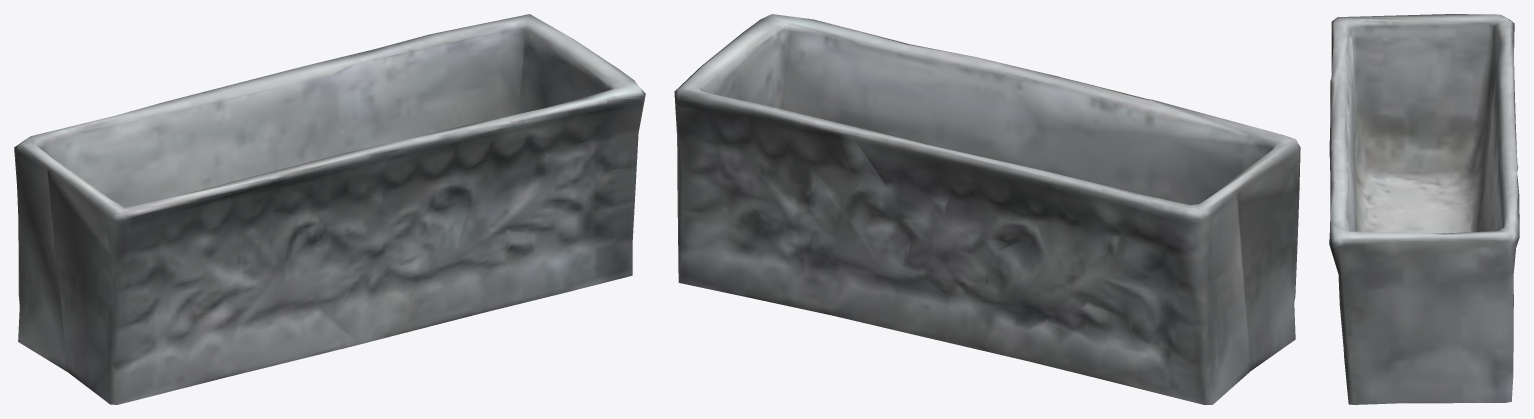
The model's file is planter.glb.
3 renders of one model, left to right at view 1: azimuth 30°, elevation 25°; view 2: azimuth 150°, elevation 25°; view 3: azimuth 270°, elevation 25°, orthographic. The views are drawn at different scales.
Visible parts, largest first — view 1: Retopo_3DModel; view 2: Retopo_3DModel; view 3: Retopo_3DModel.
Boxes of the visible parts, x1=… form: Retopo_3DModel: x1=14, y1=14, x2=645, y2=404; Retopo_3DModel: x1=674, y1=14, x2=1300, y2=404; Retopo_3DModel: x1=1329, y1=14, x2=1519, y2=404.
Size of the model in its own units: 2.2 by 0.7692 by 0.7829.
1 material, 1 textured.
